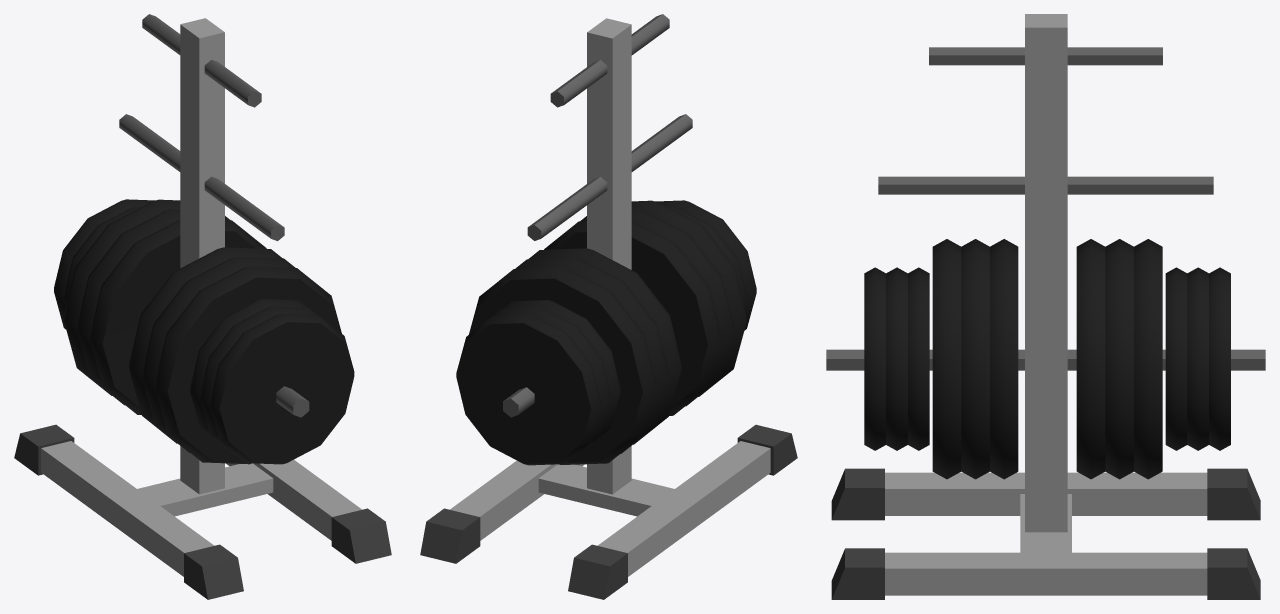
Rendered from SM_training_item_002.FBX.
3 renders of one model, left to right at view 1: azimuth 30°, elevation 25°; view 2: azimuth 150°, elevation 25°; view 3: azimuth 270°, elevation 25°, orthographic. The views are drawn at different scales.
Visible parts, largest first — view 1: SM_training_item_002; view 2: SM_training_item_002; view 3: SM_training_item_002.
Boxes of the visible parts, box(x1,y1,x2,y2) form: SM_training_item_002: box(14, 14, 391, 599); SM_training_item_002: box(420, 14, 797, 599); SM_training_item_002: box(826, 14, 1265, 599).
Size of the model in its own units: 52.91 by 96.23 by 128.
